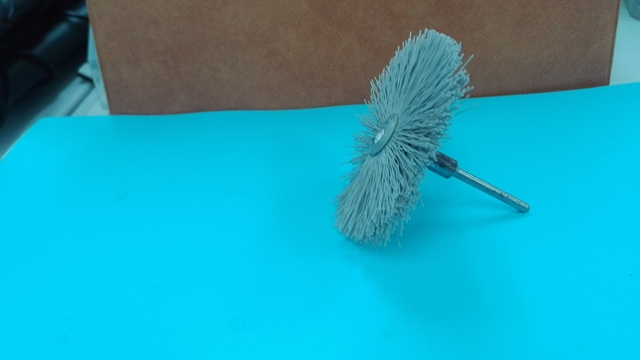TOOL: (218, 23, 531, 266), (309, 66, 526, 267), (329, 17, 542, 209)
